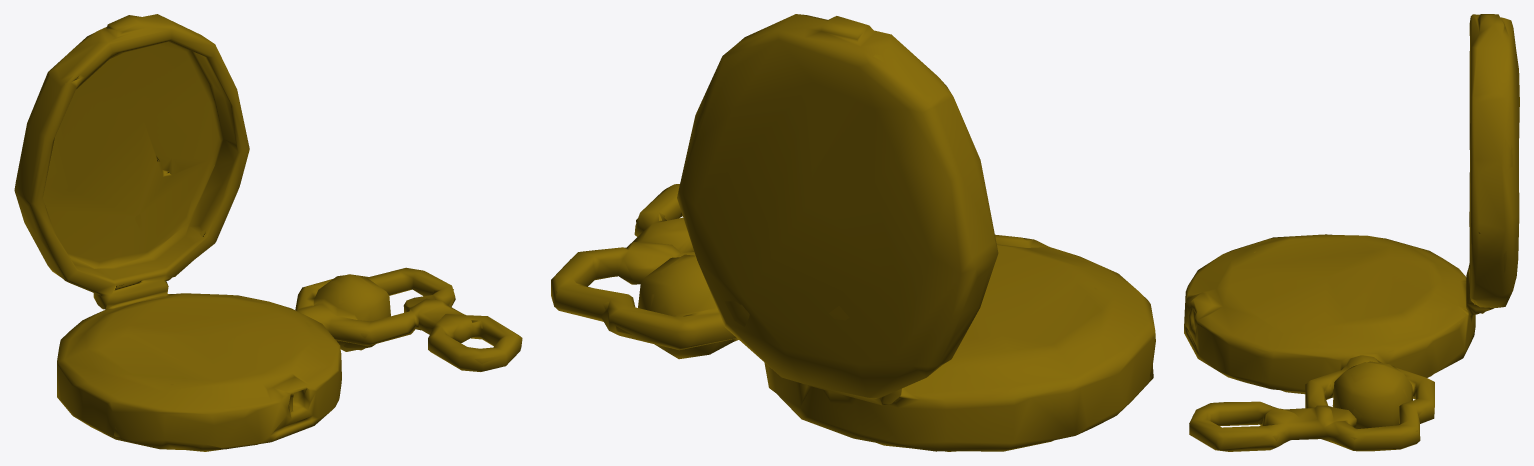
The model's file is gen3d-pocket-watch-lod0.glb.
The picture shows the model from 3 angles, left to right: view 1: azimuth 30°, elevation 25°; view 2: azimuth 150°, elevation 25°; view 3: azimuth 270°, elevation 25°; orthographic projection. The views are drawn at different scales.
Parts seen in each view (by area): view 1: part_0; view 2: part_0; view 3: part_0.
Part boxes in pixels (box(x1,y1,x2,y2)): part_0: box(14, 14, 522, 451); part_0: box(551, 14, 1155, 451); part_0: box(1184, 14, 1519, 451).
Bounding box in the file's own units: 1.25 × 0.9994 × 0.9078.
